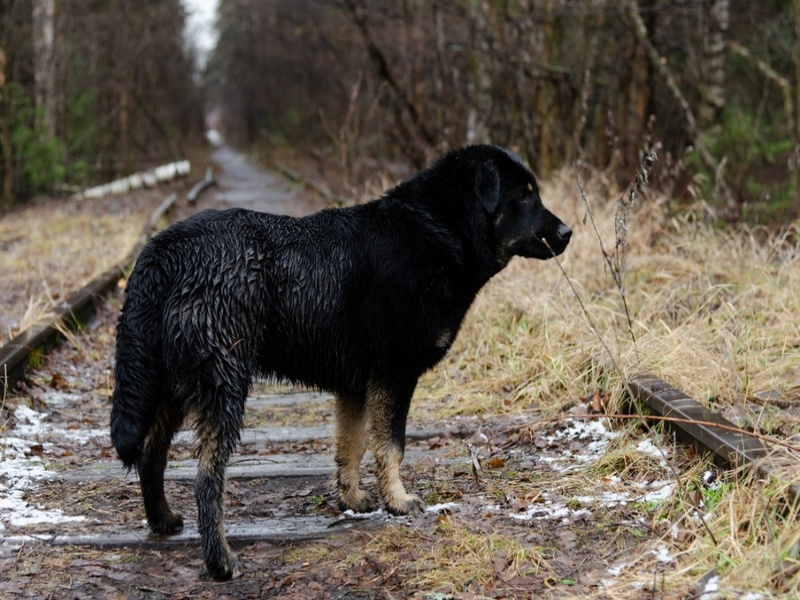dog: (105, 139, 577, 587)
